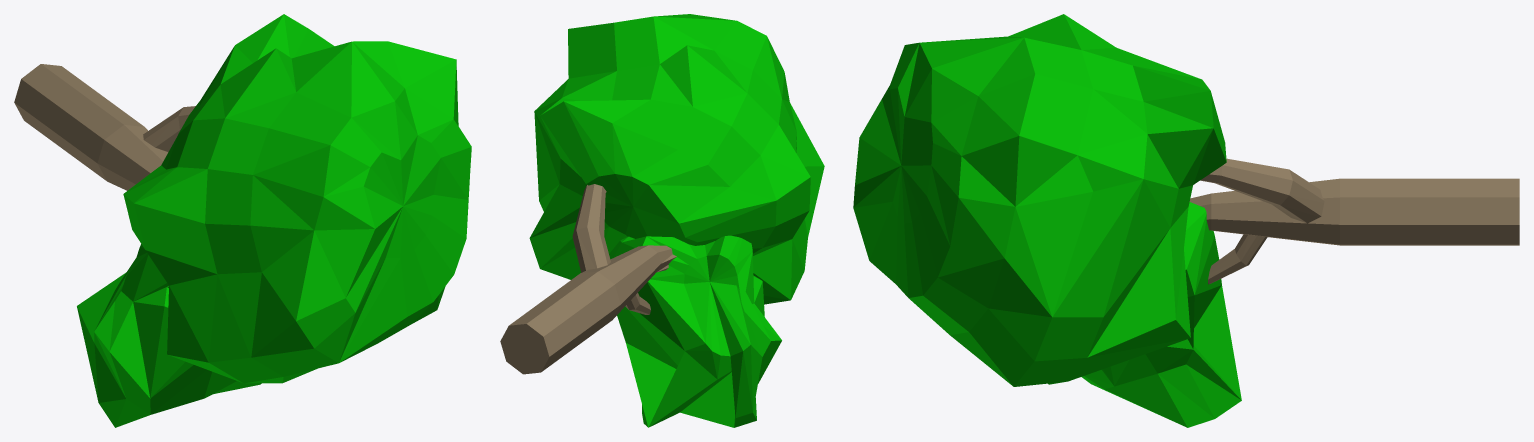
The model's file is singular tree with canopy.fbx.
3 renders of one model, left to right at view 1: azimuth 30°, elevation 25°; view 2: azimuth 150°, elevation 25°; view 3: azimuth 270°, elevation 25°, orthographic. The views are drawn at different scales.
Parts seen in each view (by area): view 1: canopy, trunk; view 2: canopy, trunk; view 3: canopy, trunk.
Boxes of the visible parts, box(x1,y1,x2,y2) form: canopy: box(77, 14, 471, 427); trunk: box(14, 64, 195, 190); canopy: box(529, 14, 824, 427); trunk: box(500, 184, 676, 374); canopy: box(853, 14, 1241, 427); trunk: box(1189, 158, 1519, 284).
Bounding box in the file's own units: 2.49 × 2.92 × 4.17.
